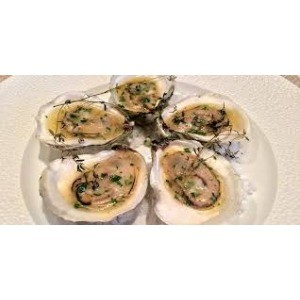oyster_brain food: (35, 89, 239, 221)
